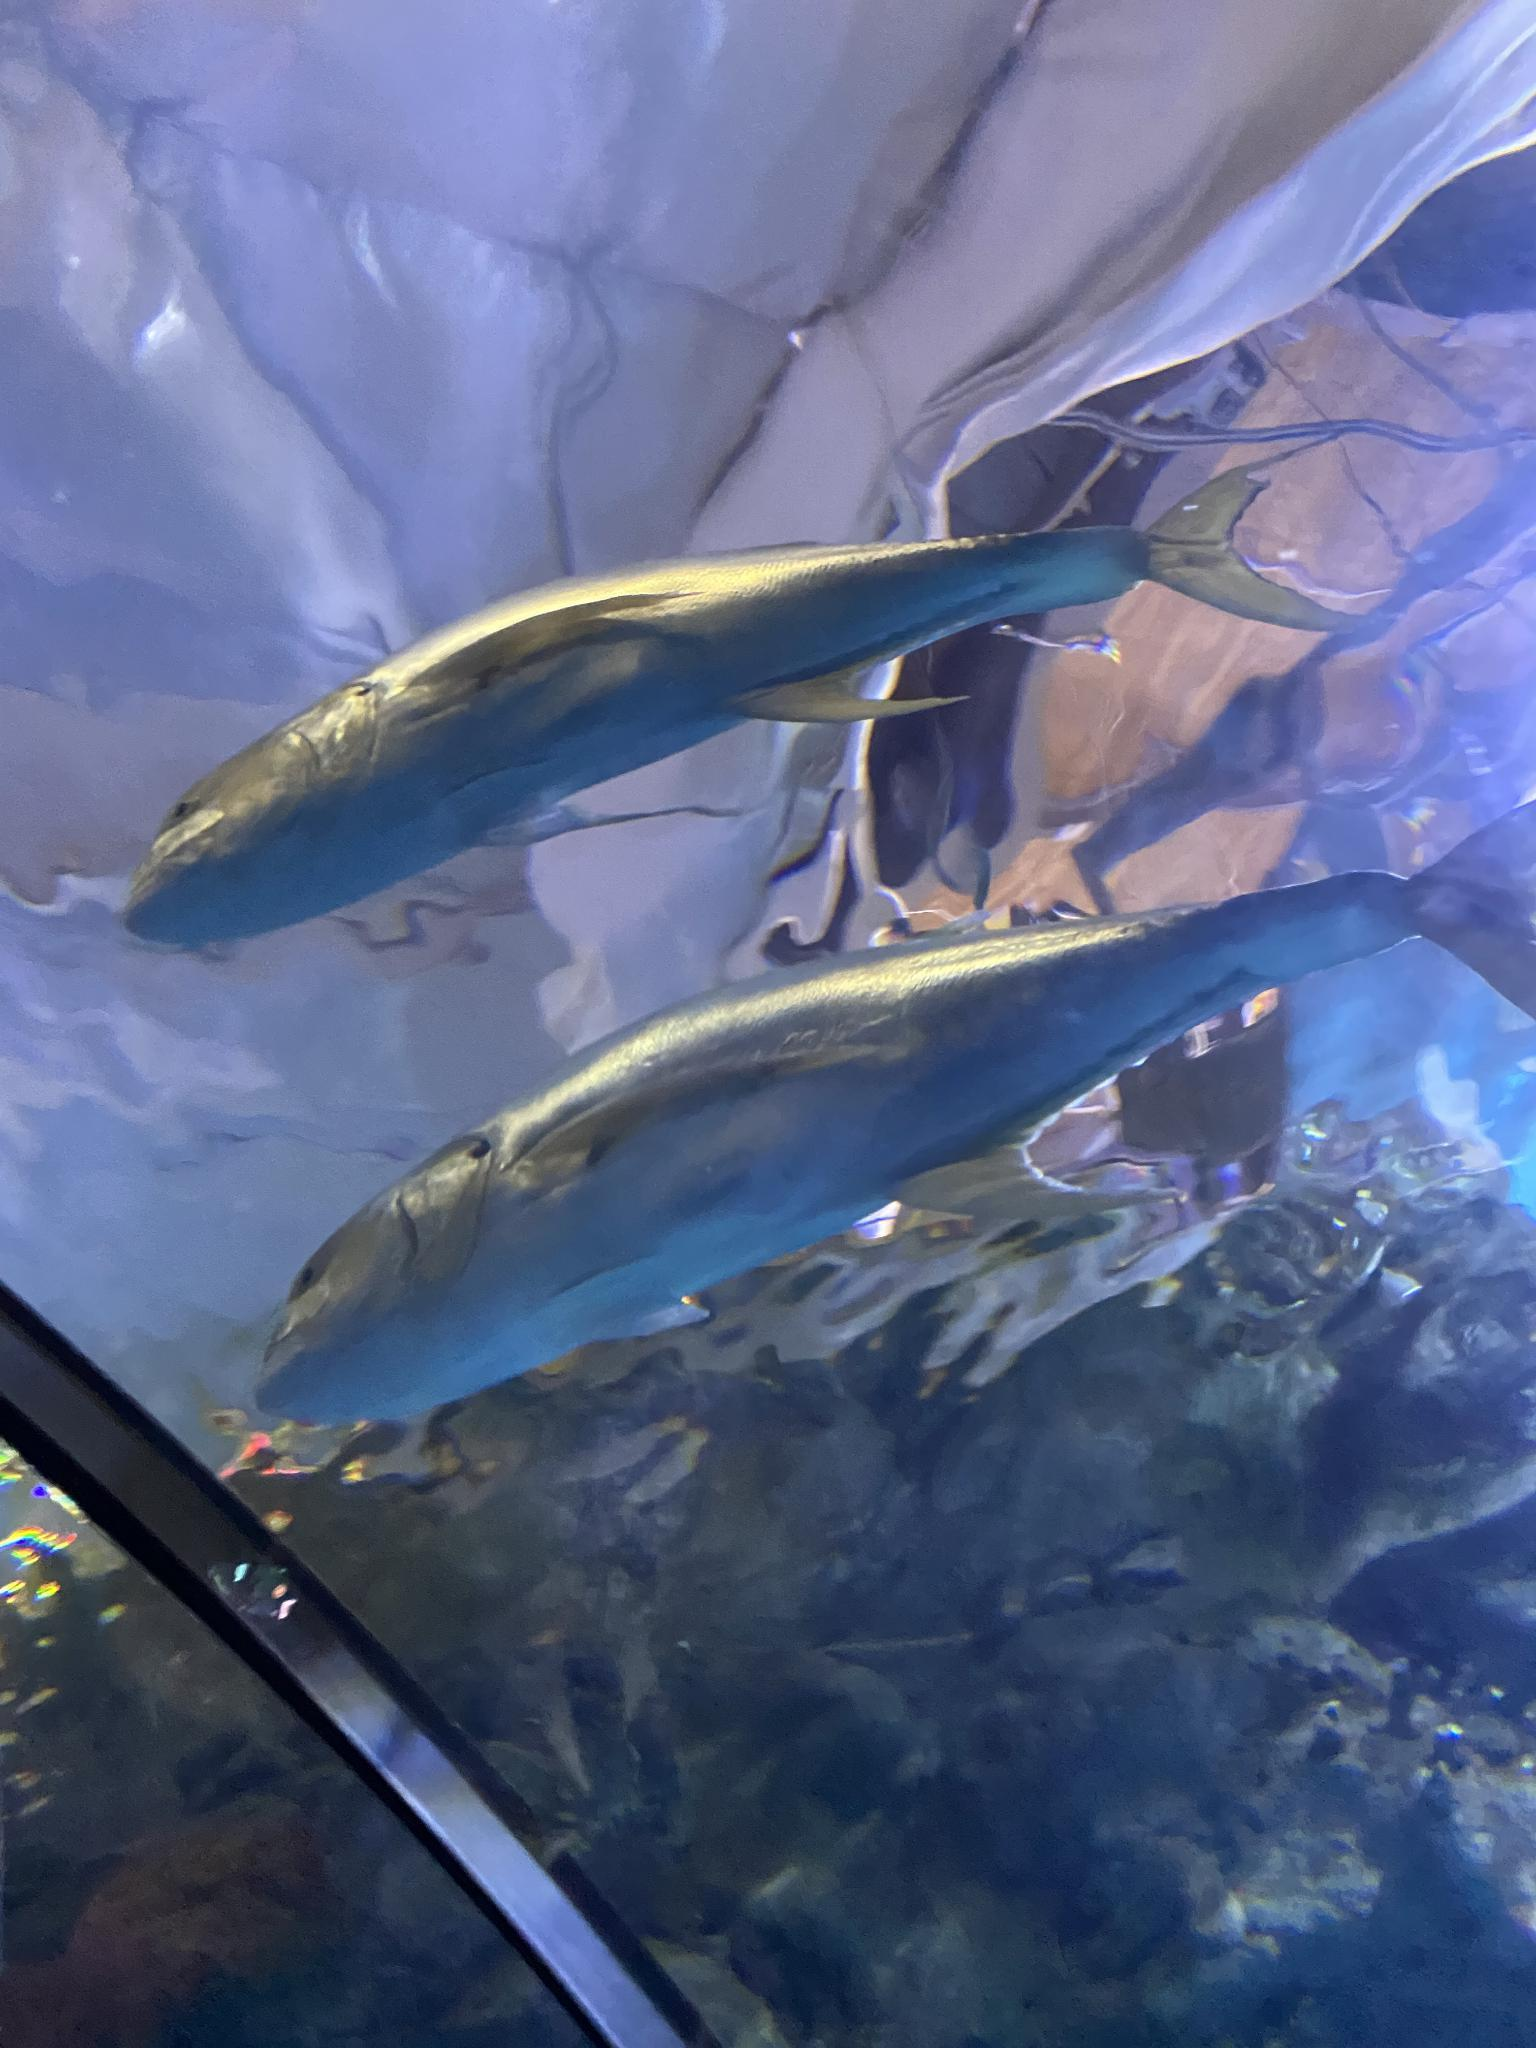fish: (243, 803, 1536, 1463), (75, 489, 1346, 944)
